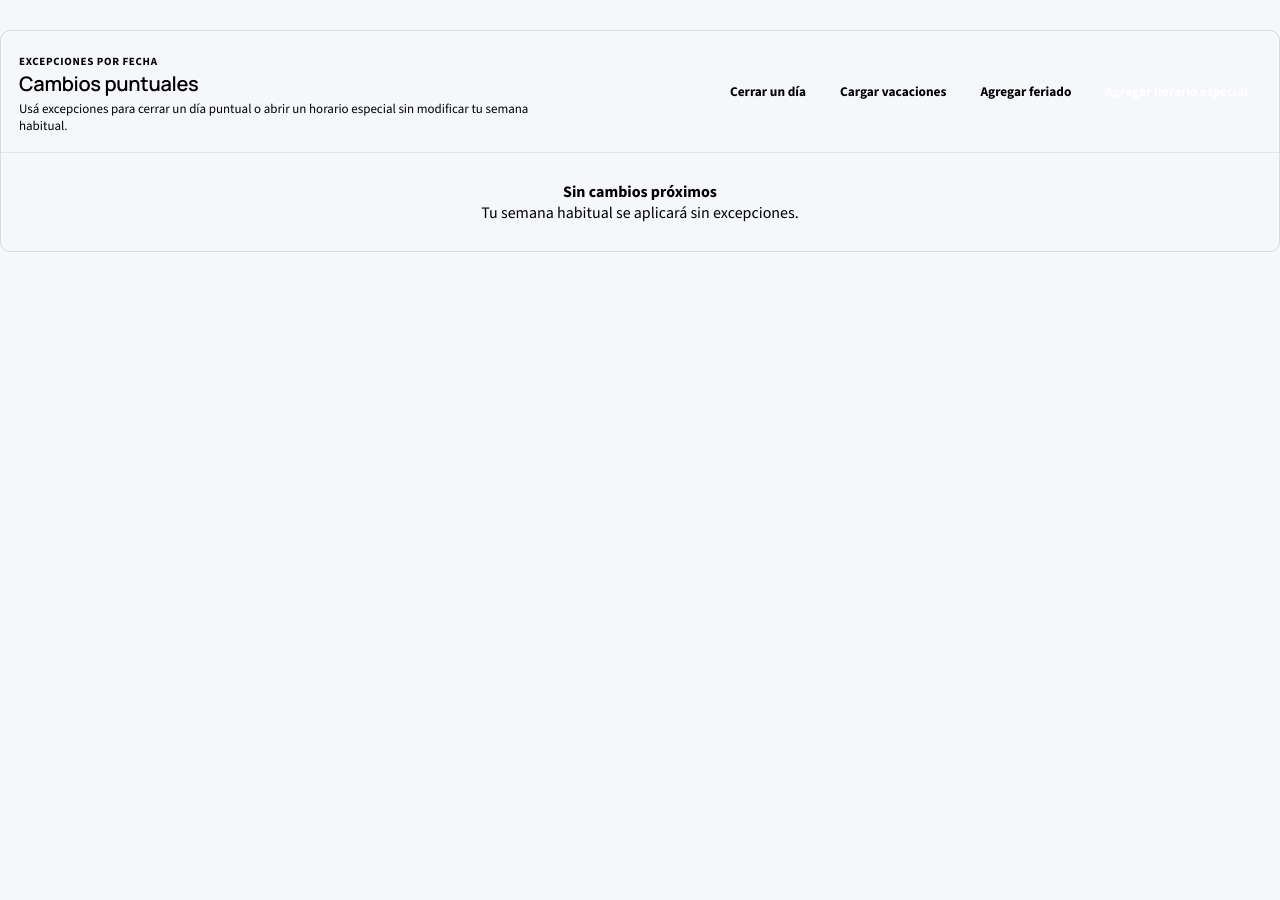
Test case: excepciones de disponibilidad › crea un cierre con advertencia y bloquea el submit
Expected: the text "Sin cambios próximos" is shown, [563,181,717,202]
Click the button "Cerrar un día" at (768, 92), box [717,72,819,112]
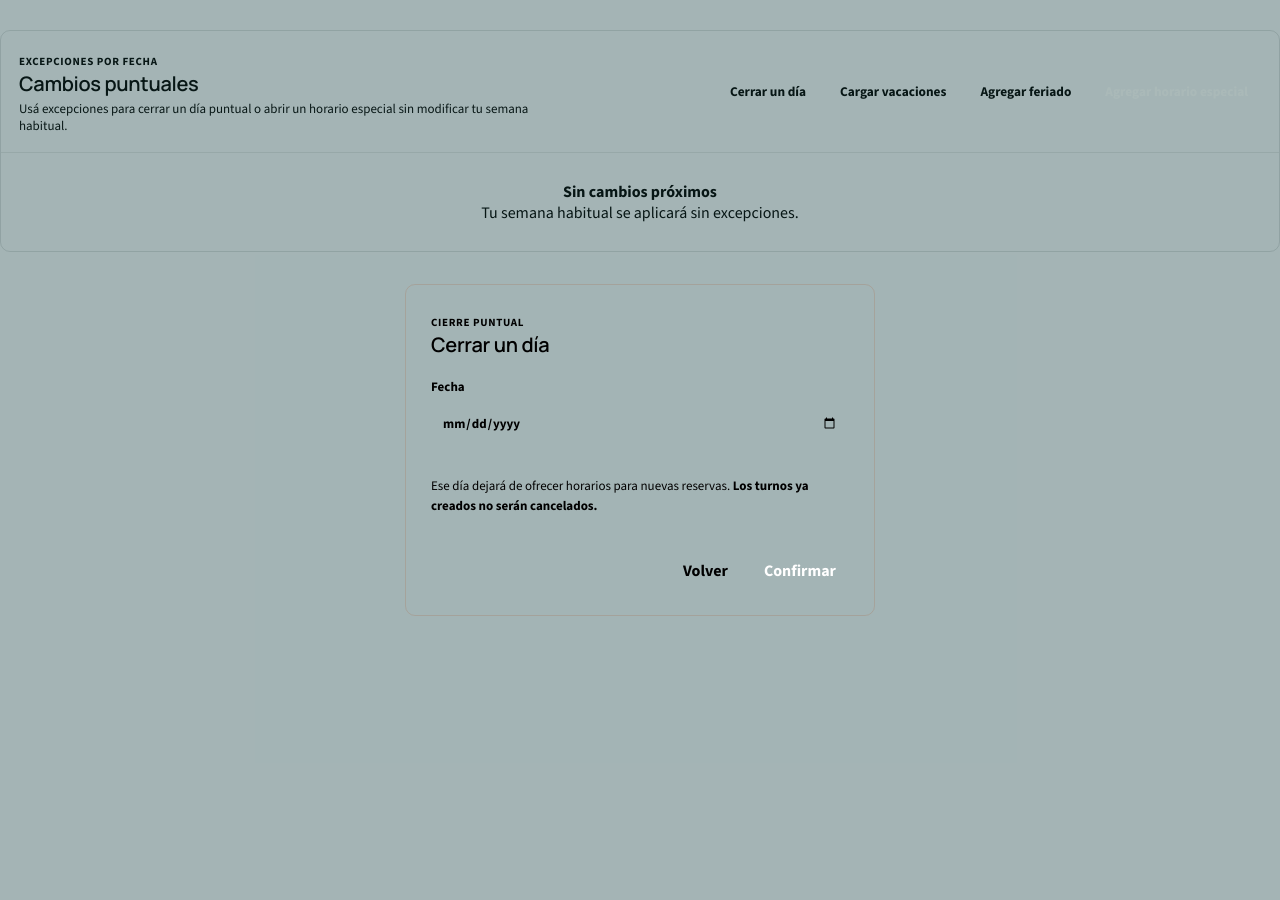
Expected: the dialog "Cerrar un día" shows "Los turnos ya creados no serán cancelados", [431,477,809,514]
Type "2026-08-25" into the date field labelled "Fecha" at (640, 423), box [431,401,849,445]
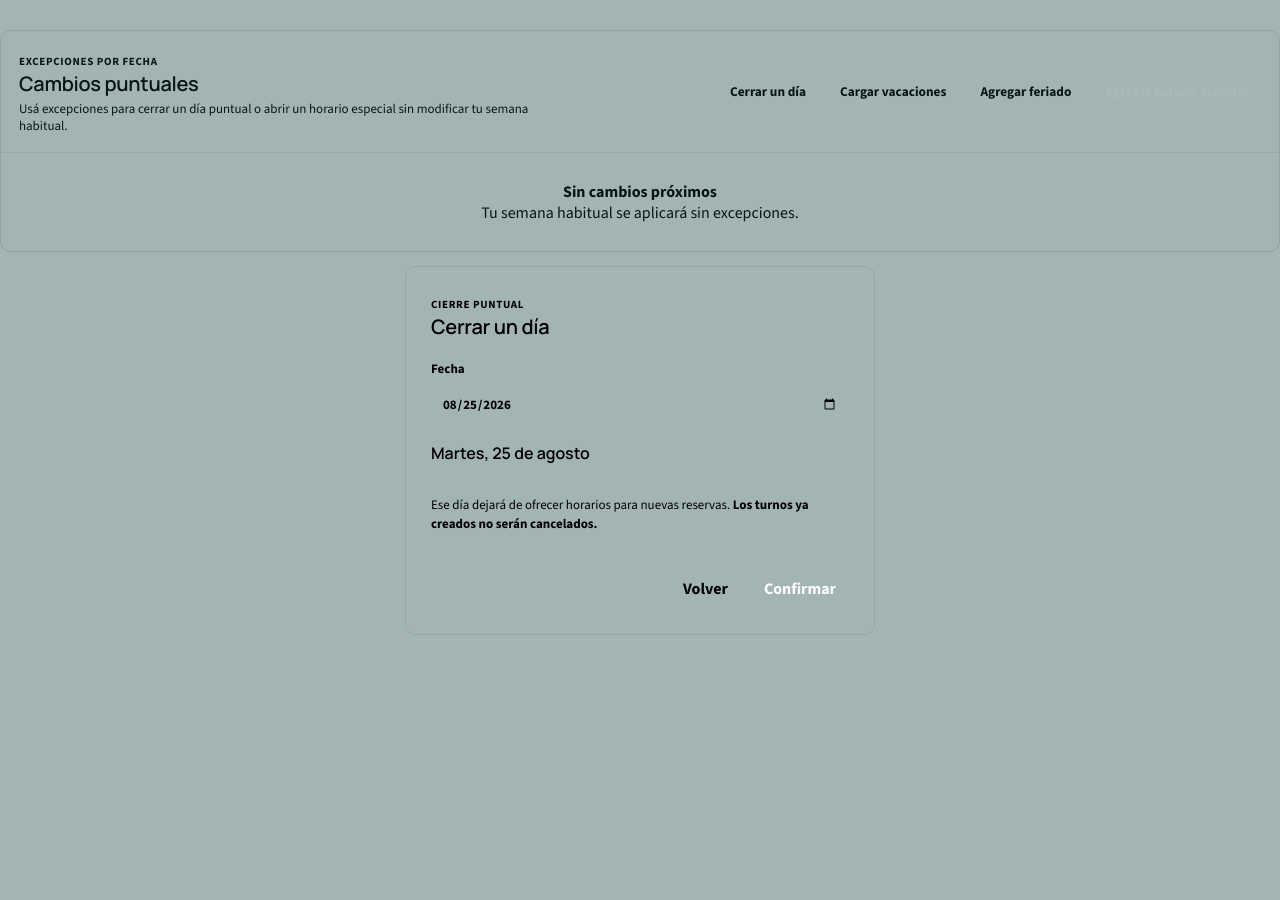
Click the button "Confirmar" at (800, 588), box [751,568,849,608]
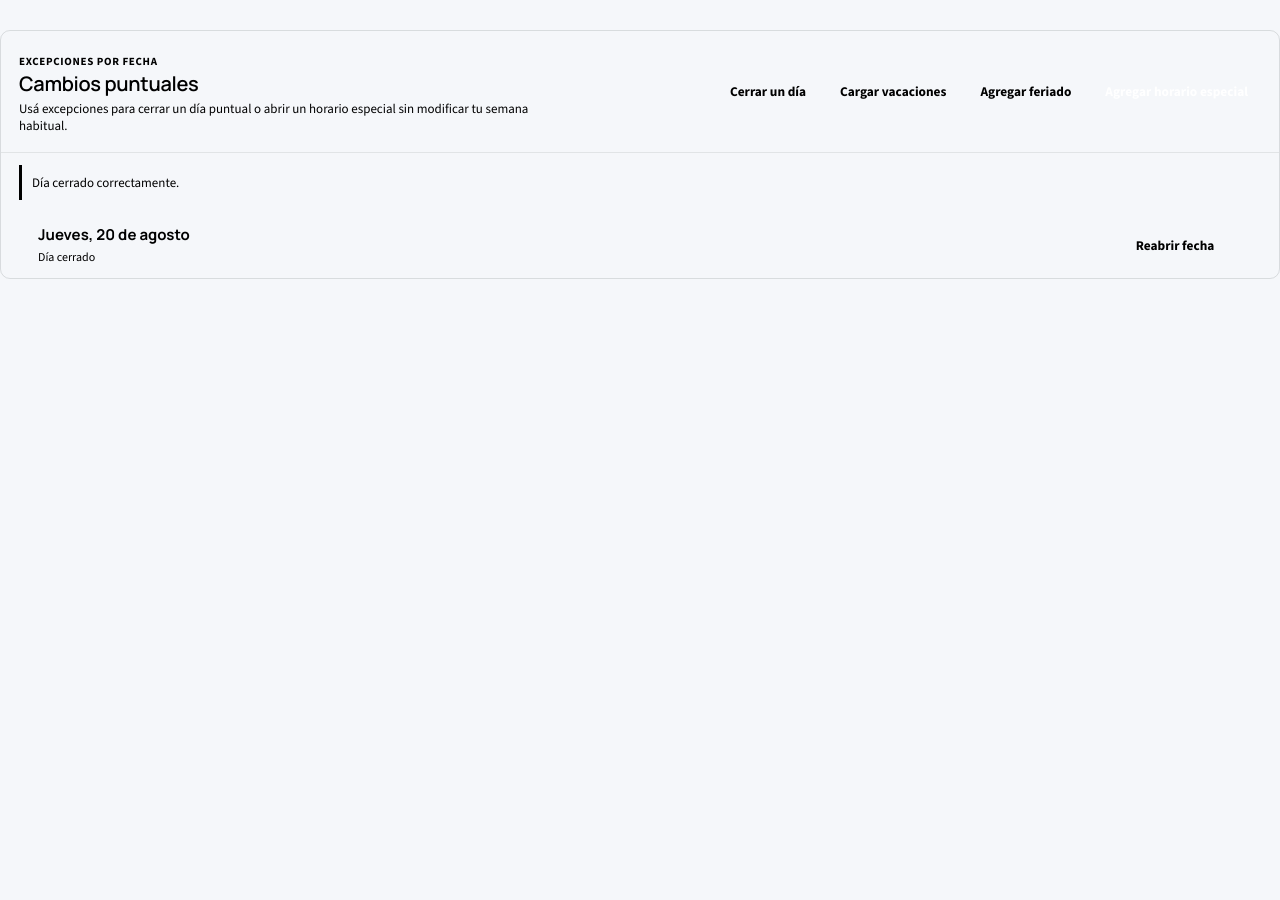
Expected: the message shows "Día cerrado correctamente", [32,174,179,191]
